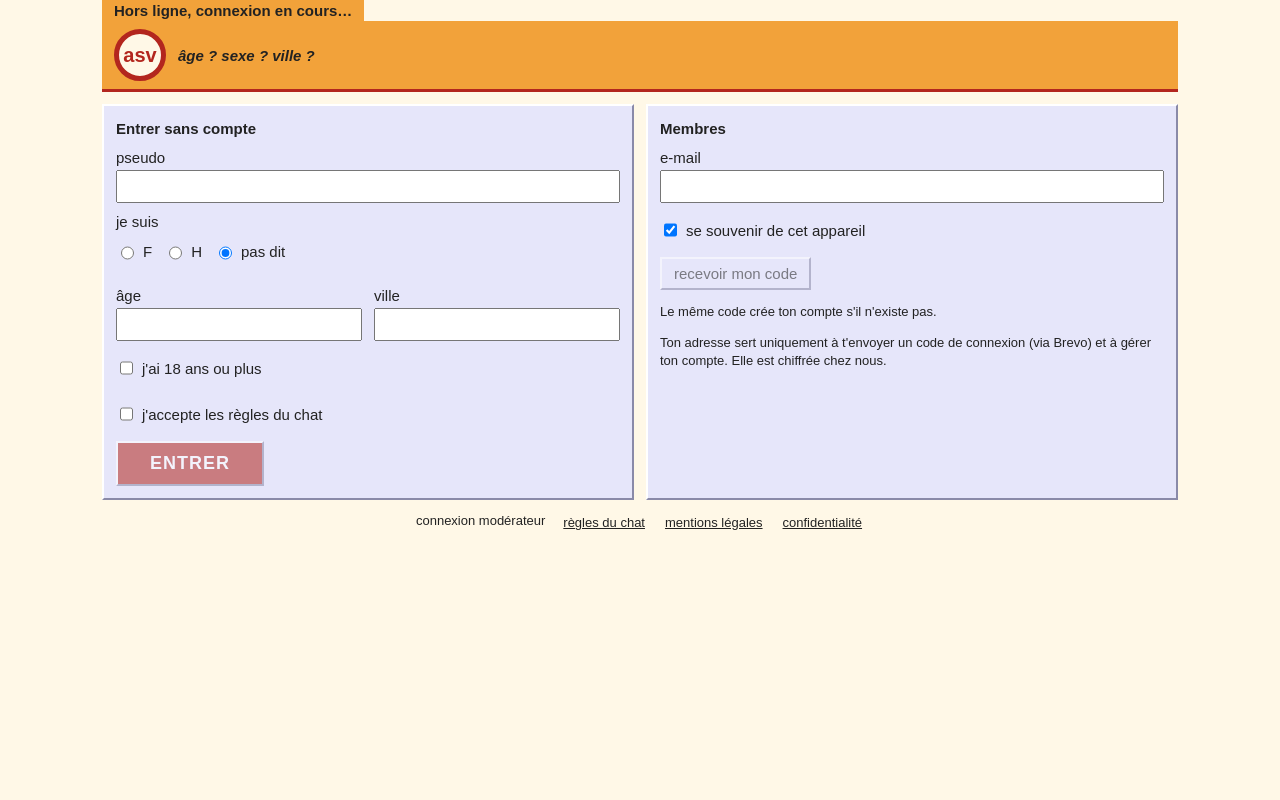
Test: legal pages (ADR-0018) › opens each page from the footer with the owner identity from /api/legal, and closes it
Click the button "mentions légales": (714, 523) [663,512,765,534]
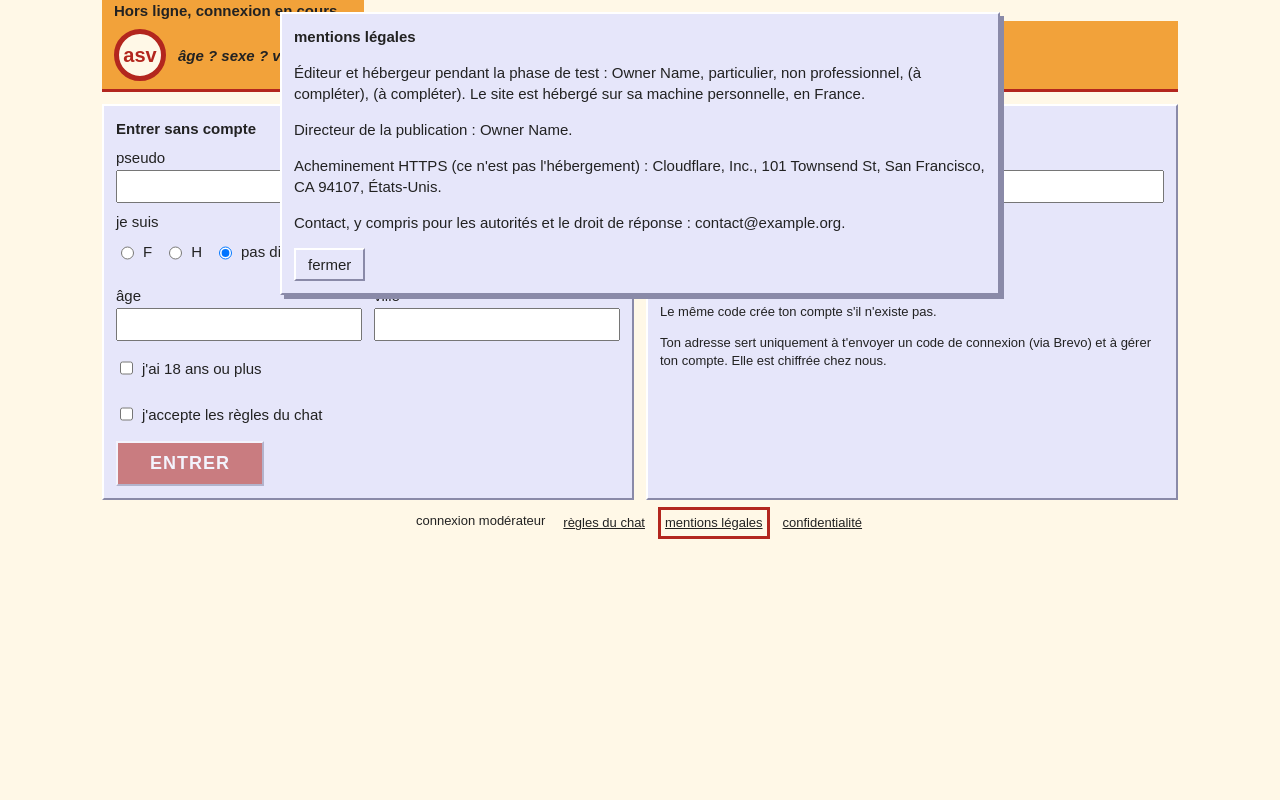
Result: the text "Directeur de la publication : Owner Name." is shown at [294,121,572,138]
Result: the text "contact@example.org" is shown at [695,214,841,231]
Click the button "fermer": (330, 264) [294,248,365,281]
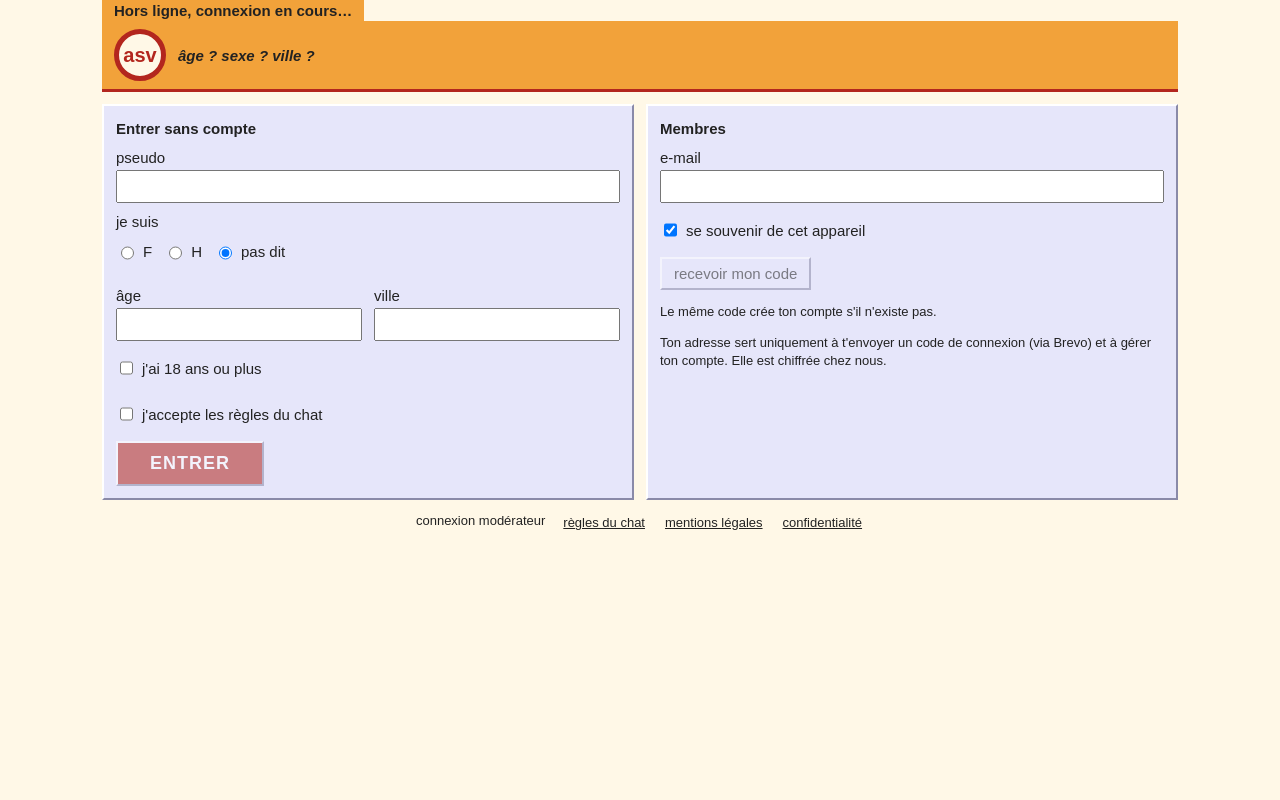
Click the button "règles du chat": (604, 523) [561,512,647,534]
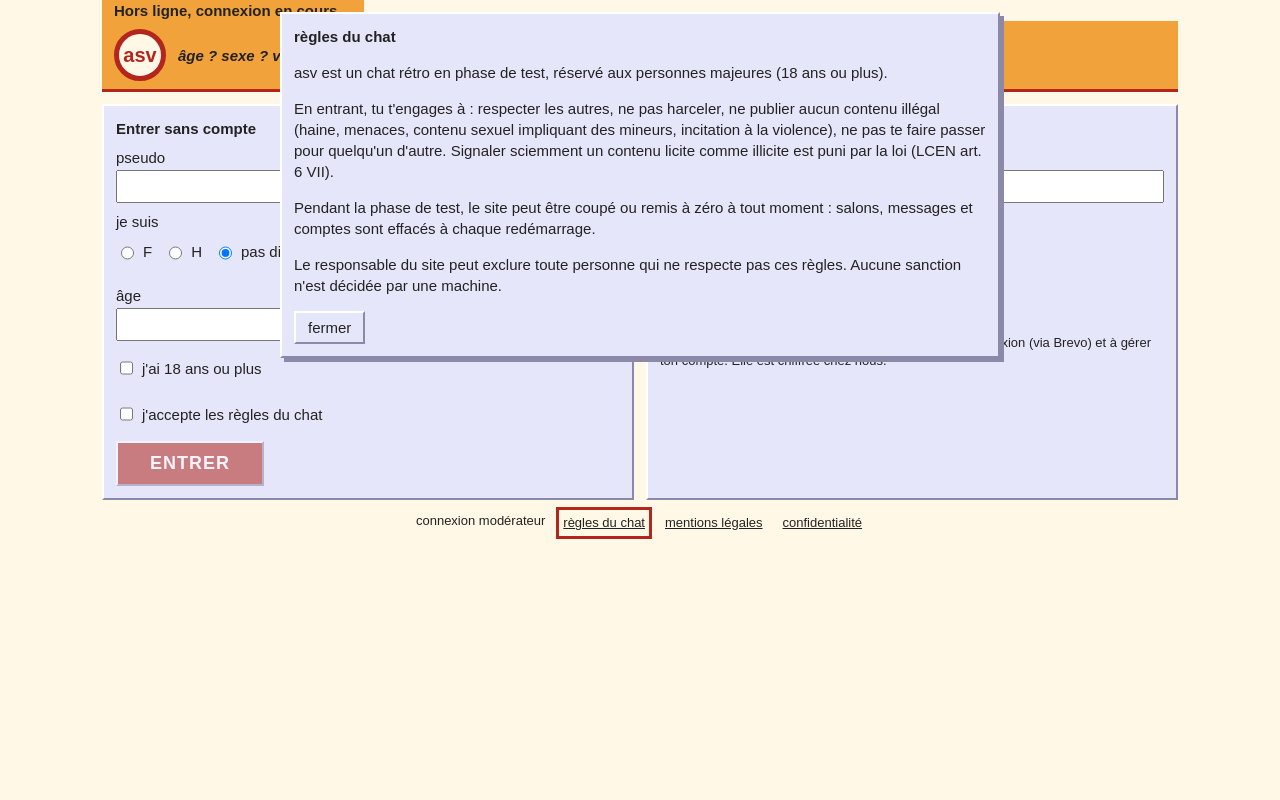
Result: the text "18 ans ou plus" is shown at [294,64,888,81]
